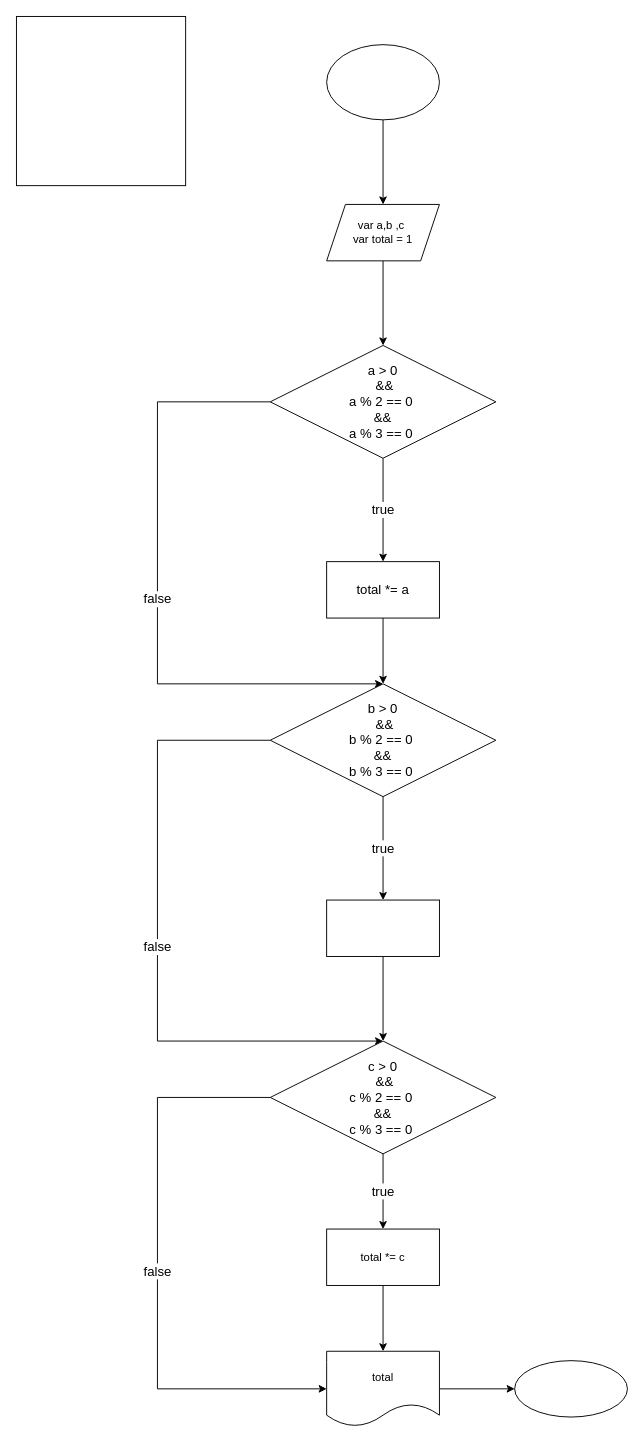
The diagram is 644 pixels wide and 1443 high, and some of its shapes have lost their labels. Each missing label, with the centre of its shape:
"End" belongs at (570,1388).
"start" belongs at (382,82).
"total *= b" belongs at (382,927).
"Verilmiş 3 ədəddən müsbət, cüt və 3-ə bölünənlərin hasilini tapan alqoritm" belongs at (101,101).
